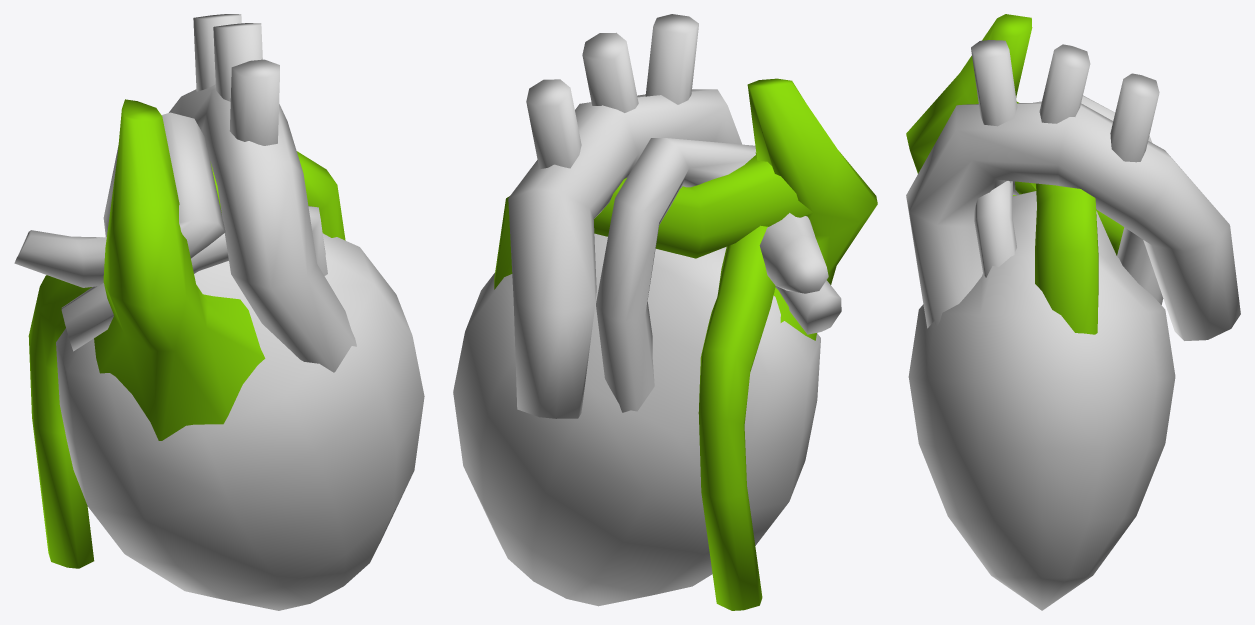
Rendered from VampireHeart.glb.
The picture shows the model from 3 angles, left to right: view 1: azimuth 30°, elevation 25°; view 2: azimuth 150°, elevation 25°; view 3: azimuth 270°, elevation 25°; orthographic projection. The views are drawn at different scales.
Visible parts, largest first — view 1: Sphere, Cube.001, Cube, Cube.005, Cube.004, Cube.002, Cube.003; view 2: Sphere, Cube, Cube.001, Cube.004, Cube.005, Cube.002, Cube.003; view 3: Sphere, Cube, Cube.001, Cube.002, Cube.003, Cube.004, Cube.005.
Part boxes in pixels (<box>): Sphere: <box>56,233,424,610</box>; Cube.001: <box>94,99,345,440</box>; Cube: <box>169,84,356,372</box>; Cube.005: <box>28,275,94,568</box>; Cube.004: <box>14,112,225,287</box>; Cube.002: <box>193,14,279,145</box>; Cube.003: <box>61,206,327,351</box>; Sphere: <box>453,233,820,606</box>; Cube: <box>508,89,742,418</box>; Cube.001: <box>494,78,877,340</box>; Cube.004: <box>596,138,828,412</box>; Cube.005: <box>698,225,775,610</box>; Cube.002: <box>526,14,698,169</box>; Cube.003: <box>775,280,841,334</box>; Sphere: <box>908,191,1175,610</box>; Cube: <box>906,102,1240,340</box>; Cube.001: <box>906,14,1098,334</box>; Cube.002: <box>971,40,1159,162</box>; Cube.003: <box>974,181,1019,277</box>; Cube.004: <box>1036,95,1163,304</box>; Cube.005: <box>1015,181,1124,255</box>.
Bounding box in the file's own units: 0.6739 × 0.99 × 0.5706.
